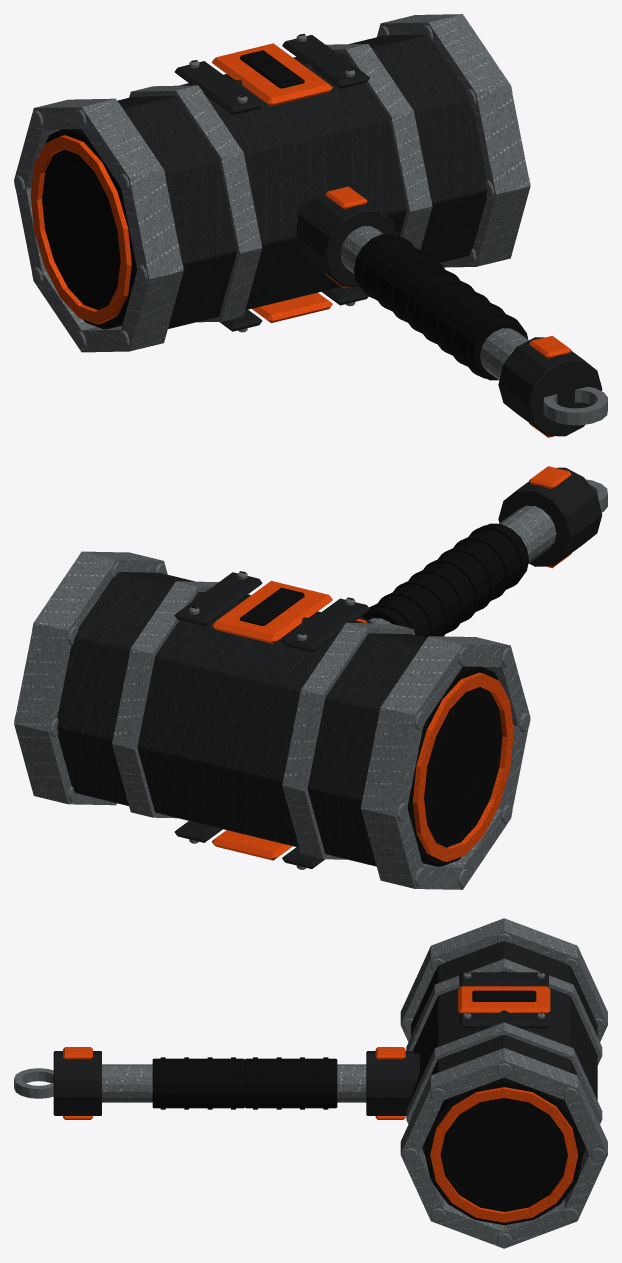
The model's file is impulse-hammer-short-grip.glb.
The picture shows the model from 3 angles, top to bottom: view 1: azimuth 30°, elevation 25°; view 2: azimuth 150°, elevation 25°; view 3: azimuth 270°, elevation 25°; orthographic projection. The views are drawn at different scales.
Visible parts, largest first — view 1: Octagonal impulse housing, Heavy endcap steel cage, Heavy endcap steel cage.001, Recessed striking plate, Steel housing compression band, Locking haft joint, Steel housing compression band.001, Endcap orange indicator lip, Locking haft joint.001, Rubber impact grip sleeve, Rubber impact grip sleeve.001, Central orange service panel.001 (+9 smaller); view 2: Octagonal impulse housing, Heavy endcap steel cage, Heavy endcap steel cage.001, Recessed striking plate, Steel housing compression band, Steel housing compression band.001, Endcap orange indicator lip, Locking haft joint, Rubber impact grip sleeve, Rubber impact grip sleeve.001, Central orange service panel.001, Dark service access cover.003 (+6 smaller); view 3: Recessed striking plate.001, Heavy endcap steel cage.001, Octagonal impulse housing, Heavy endcap steel cage, Endcap orange indicator lip.001, Rubber impact grip sleeve, Rubber impact grip sleeve.001, Machined central haft, Locking haft joint, Steel housing compression band.001, Locking haft joint.001, Steel housing compression band (+5 smaller).
Boxes of the visible parts, <box> form: Octagonal impulse housing: <box>117,34,487,328</box>; Heavy endcap steel cage: <box>14,98,183,352</box>; Heavy endcap steel cage.001: <box>377,14,530,267</box>; Recessed striking plate: <box>42,129,136,329</box>; Steel housing compression band: <box>129,85,262,322</box>; Locking haft joint: <box>498,337,602,436</box>; Steel housing compression band.001: <box>326,44,432,249</box>; Endcap orange indicator lip: <box>30,135,131,324</box>; Locking haft joint.001: <box>296,188,397,287</box>; Rubber impact grip sleeve: <box>414,277,527,380</box>; Rubber impact grip sleeve.001: <box>354,233,458,331</box>; Central orange service panel.001: <box>212,43,332,106</box>; Octagonal impulse housing: <box>57,572,426,866</box>; Heavy endcap steel cage: <box>360,636,530,889</box>; Heavy endcap steel cage.001: <box>14,551,167,805</box>; Recessed striking plate: <box>407,666,502,866</box>; Steel housing compression band: <box>282,622,415,859</box>; Steel housing compression band.001: <box>112,581,218,818</box>; Endcap orange indicator lip: <box>412,672,513,861</box>; Locking haft joint: <box>498,467,602,566</box>; Rubber impact grip sleeve: <box>424,523,528,621</box>; Rubber impact grip sleeve.001: <box>361,567,468,637</box>; Central orange service panel.001: <box>211,580,332,643</box>; Dark service access cover.003: <box>174,572,262,626</box>; Recessed striking plate.001: <box>424,1077,583,1225</box>; Heavy endcap steel cage.001: <box>400,1048,607,1248</box>; Octagonal impulse housing: <box>411,941,597,1154</box>; Heavy endcap steel cage: <box>400,918,607,1041</box>; Endcap orange indicator lip.001: <box>430,1087,577,1222</box>; Rubber impact grip sleeve: <box>152,1058,244,1108</box>; Rubber impact grip sleeve.001: <box>245,1058,337,1108</box>; Machined central haft: <box>102,1064,366,1102</box>; Locking haft joint: <box>53,1051,101,1115</box>; Steel housing compression band.001: <box>406,1022,602,1123</box>; Locking haft joint.001: <box>366,1051,414,1115</box>; Steel housing compression band: <box>406,958,602,1065</box>.
Size of the model in its own units: 0.482 by 0.292 by 0.836.
Materials: 4 (4 with a texture image).
